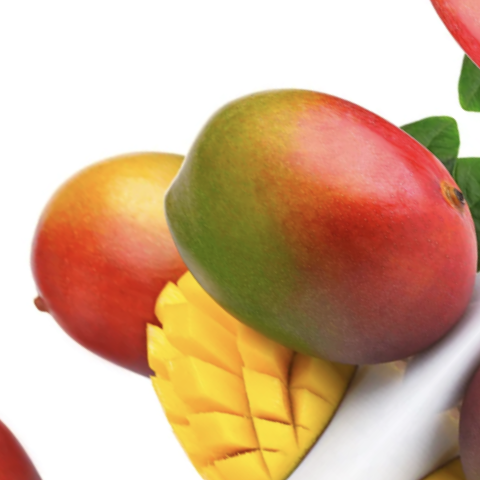mango: (107, 7, 480, 445), (0, 75, 342, 453)
